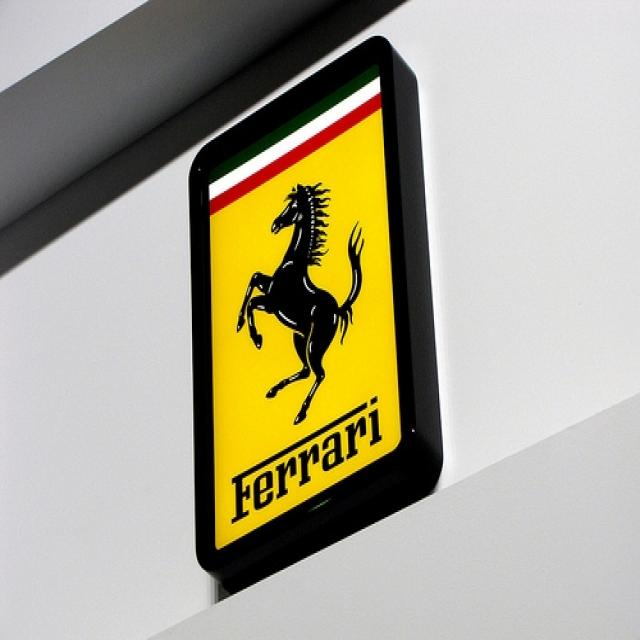ferrari: (206, 73, 404, 556)
